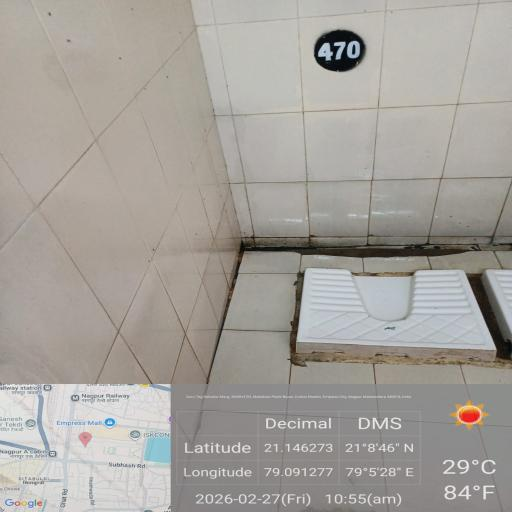clean_floor: (21, 10, 215, 512), (263, 21, 500, 175)
clean_urinal: (210, 164, 512, 404)
